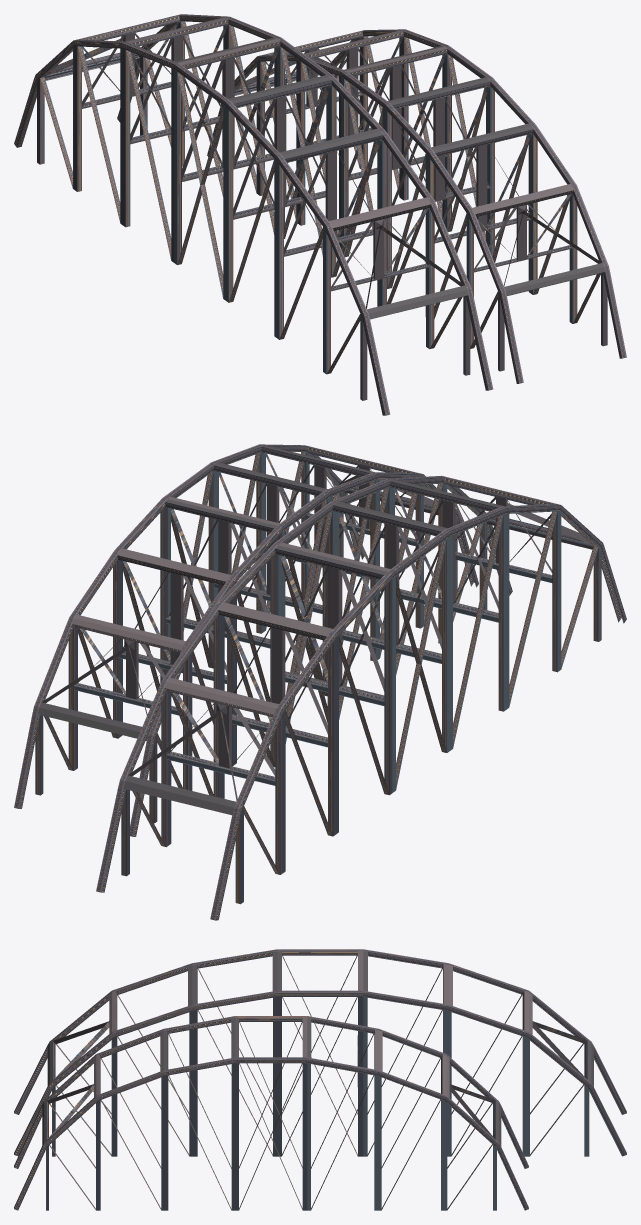
File: PuenteFierro_9.glb
3 views of the same model, one above another, from view 1: azimuth 30°, elevation 25°; view 2: azimuth 150°, elevation 25°; view 3: azimuth 270°, elevation 25° (orthographic). The views are drawn at different scales.
Visible parts, largest first — view 1: Puente de fierro; view 2: Puente de fierro; view 3: Puente de fierro.
Part boxes in pixels (x1,y1,x2,y2): Puente de fierro: (14, 14, 626, 415); Puente de fierro: (14, 444, 626, 920); Puente de fierro: (14, 949, 626, 1210).
Bounding box in the file's own units: 31.88 × 25.16 × 85.03.
1 material, 1 textured.
